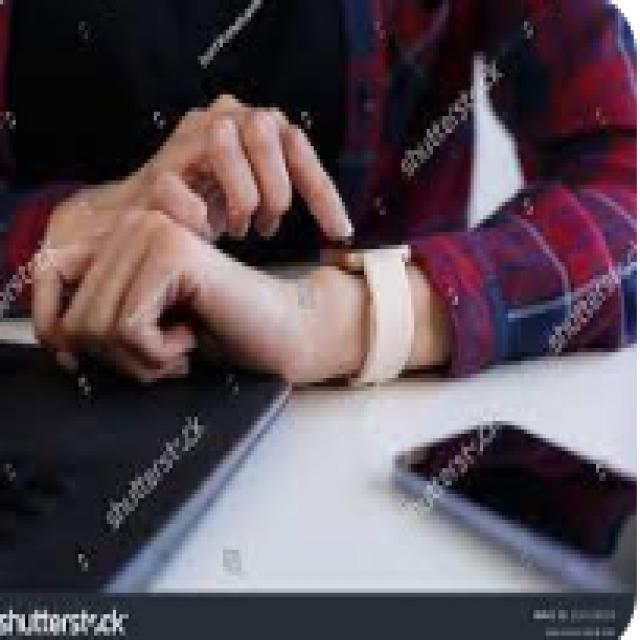Watch: (324, 229, 418, 390)
